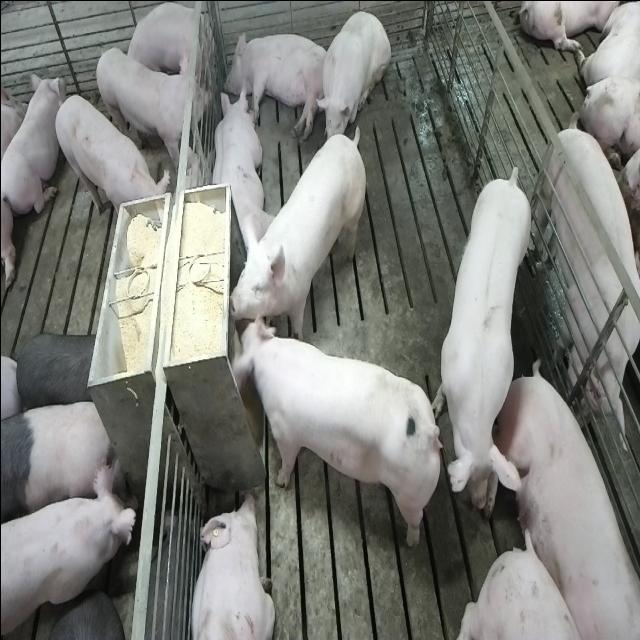Feeding: (230, 312, 440, 548), (229, 130, 369, 346)
Lateral_lying: (478, 361, 636, 636), (222, 28, 330, 140)
Sitting: (314, 8, 390, 150)
Standing: (432, 162, 532, 518), (537, 110, 640, 430), (2, 458, 141, 640), (52, 91, 167, 236), (2, 399, 121, 532)
Sternal_lying: (185, 490, 272, 640), (207, 82, 268, 262), (2, 72, 60, 222), (124, 2, 209, 90)
